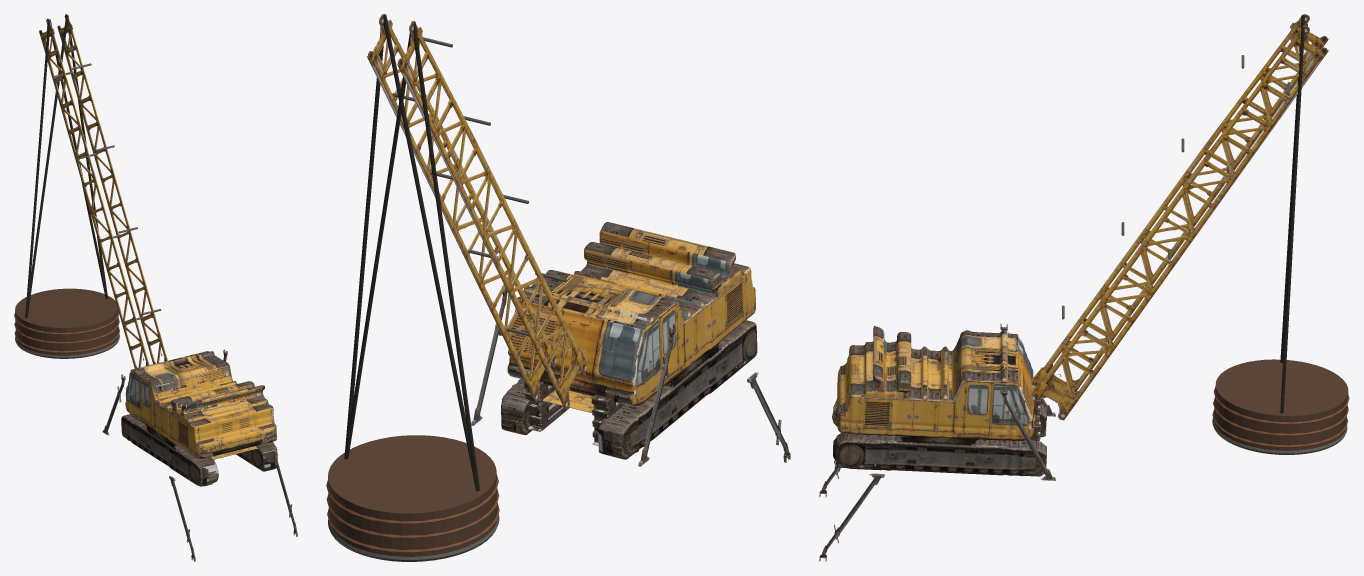
Rendered from sea-magnet-big.glb.
The picture shows the model from 3 angles, left to right: view 1: azimuth 30°, elevation 25°; view 2: azimuth 150°, elevation 25°; view 3: azimuth 270°, elevation 25°; orthographic projection. The views are drawn at different scales.
Visible parts, largest first — view 1: magnus-magnet-big:body, magnus-magnet-big:magnet-shell, magnus-magnet-big:boom-frame-far, magnus-magnet-big:boom-frame-near, magnus-magnet-big:cable--1--1, magnus-magnet-big:cable-1--1, magnus-magnet-big:cable--1-1, magnus-magnet-big:cable-1-1, magnus-magnet-big:magnet-rim; view 2: magnus-magnet-big:body, magnus-magnet-big:magnet-shell, magnus-magnet-big:boom-frame-far, magnus-magnet-big:boom-frame-near, magnus-magnet-big:cable--1--1, magnus-magnet-big:cable-1--1, magnus-magnet-big:cable--1-1, magnus-magnet-big:cable-1-1, magnus-magnet-big:timber-stack-2, magnus-magnet-big:magnet-rim, magnus-magnet-big:raking-prop--1-1, magnus-magnet-big:raking-prop-1-1 (+5 smaller); view 3: magnus-magnet-big:body, magnus-magnet-big:boom-frame-near, magnus-magnet-big:magnet-shell, magnus-magnet-big:boom-frame-far, magnus-magnet-big:cable-1-1, magnus-magnet-big:magnet-rim.
Part boxes in pixels (bbox=[...]): magnus-magnet-big:body: bbox=[121, 351, 277, 486]; magnus-magnet-big:magnet-shell: bbox=[15, 288, 118, 355]; magnus-magnet-big:boom-frame-far: bbox=[39, 18, 149, 368]; magnus-magnet-big:boom-frame-near: bbox=[57, 14, 167, 364]; magnus-magnet-big:cable--1--1: bbox=[25, 20, 50, 318]; magnus-magnet-big:cable-1--1: bbox=[27, 15, 67, 318]; magnus-magnet-big:cable--1-1: bbox=[49, 19, 107, 298]; magnus-magnet-big:cable-1-1: bbox=[67, 15, 107, 298]; magnus-magnet-big:magnet-rim: bbox=[15, 334, 119, 358]; magnus-magnet-big:body: bbox=[501, 222, 757, 459]; magnus-magnet-big:magnet-shell: bbox=[328, 435, 497, 556]; magnus-magnet-big:boom-frame-far: bbox=[397, 21, 587, 410]; magnus-magnet-big:boom-frame-near: bbox=[366, 14, 557, 402]; magnus-magnet-big:cable--1--1: bbox=[413, 21, 480, 491]; magnus-magnet-big:cable-1--1: bbox=[383, 14, 476, 490]; magnus-magnet-big:cable--1-1: bbox=[345, 21, 413, 459]; magnus-magnet-big:cable-1-1: bbox=[344, 14, 384, 458]; magnus-magnet-big:timber-stack-2: bbox=[524, 380, 569, 431]; magnus-magnet-big:magnet-rim: bbox=[328, 514, 499, 561]; magnus-magnet-big:raking-prop--1-1: bbox=[638, 323, 675, 466]; magnus-magnet-big:raking-prop-1-1: bbox=[471, 286, 507, 425]; magnus-magnet-big:body: bbox=[832, 325, 1046, 476]; magnus-magnet-big:boom-frame-near: bbox=[1031, 25, 1328, 420]; magnus-magnet-big:magnet-shell: bbox=[1213, 359, 1348, 450]; magnus-magnet-big:boom-frame-far: bbox=[1031, 14, 1329, 406]; magnus-magnet-big:cable-1-1: bbox=[1280, 26, 1304, 413]; magnus-magnet-big:magnet-rim: bbox=[1212, 418, 1347, 454].
Size of the model in its own units: 8.11 by 29.58 by 27.9.
Materials: 12 (7 with a texture image).
